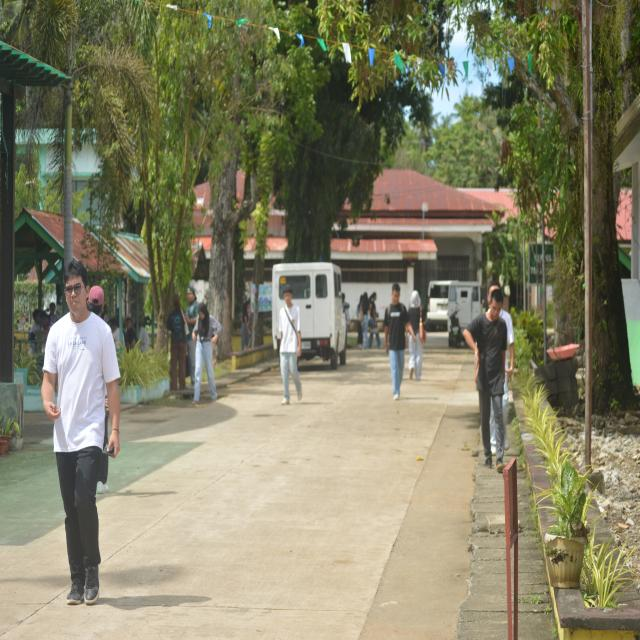person: (42, 260, 120, 604), (464, 289, 506, 471), (384, 284, 415, 400), (192, 303, 222, 404), (279, 284, 302, 404), (501, 309, 514, 450), (167, 294, 186, 390), (408, 291, 425, 380), (185, 286, 197, 388), (368, 293, 380, 348), (241, 301, 250, 350)
